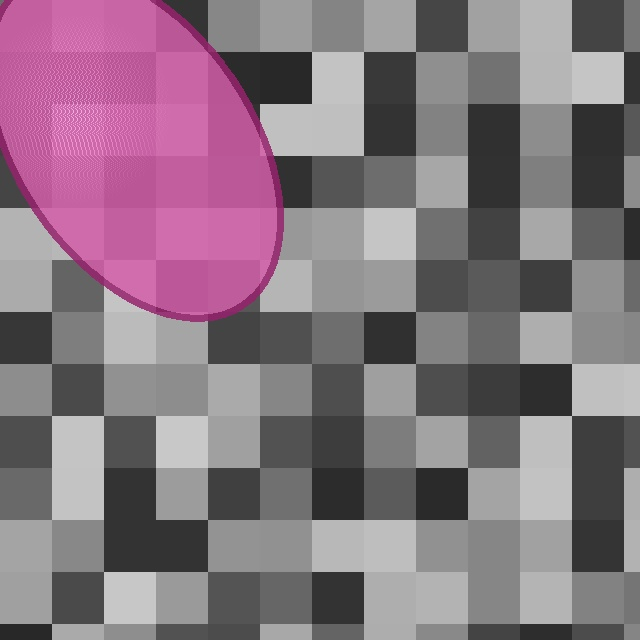lens: (0, 0, 280, 316)
